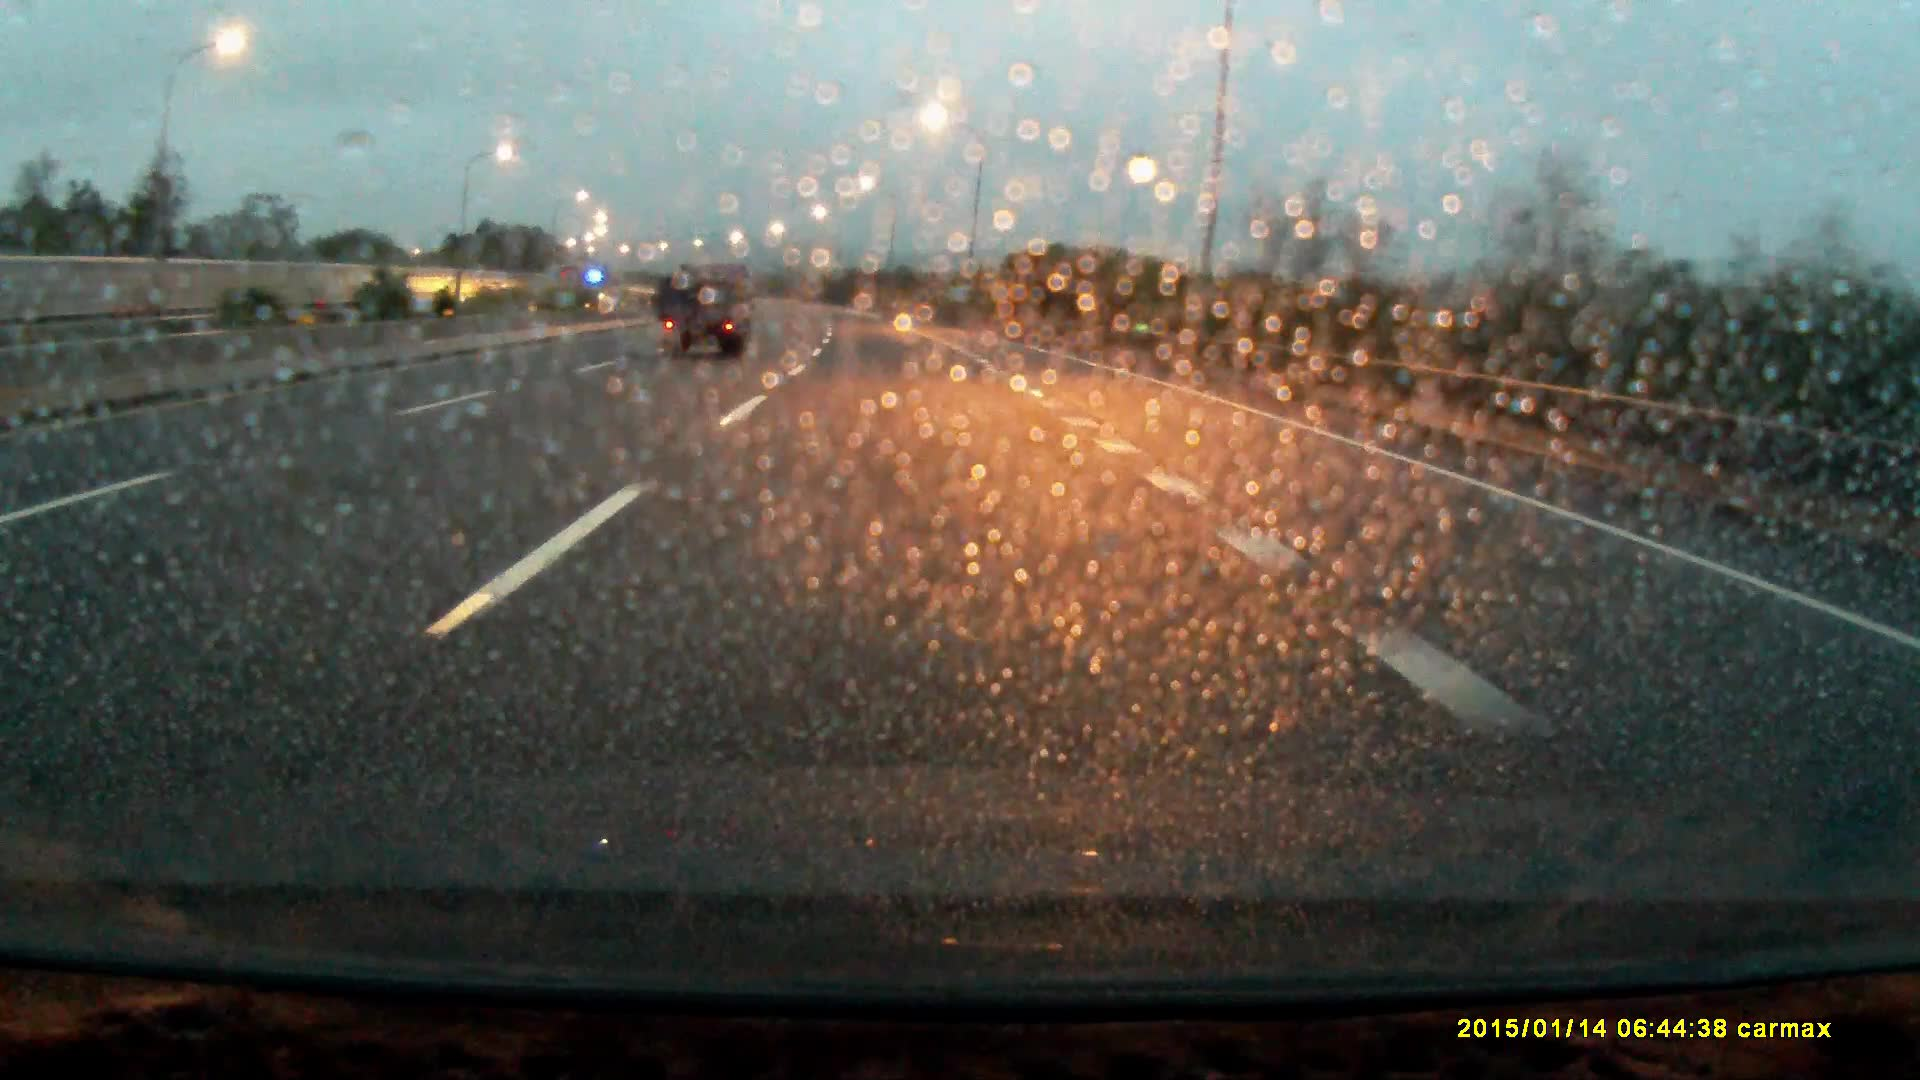vehicle: (662, 262, 756, 363)
